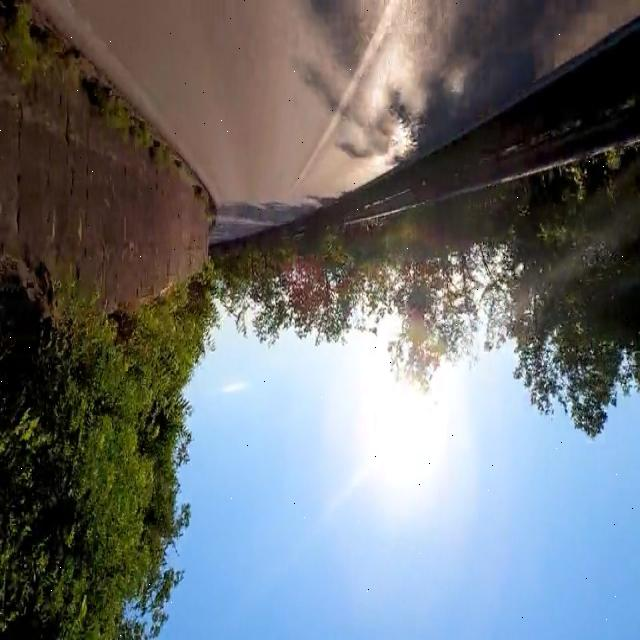lane: (293, 1, 399, 191)
road: (39, 2, 640, 243)
